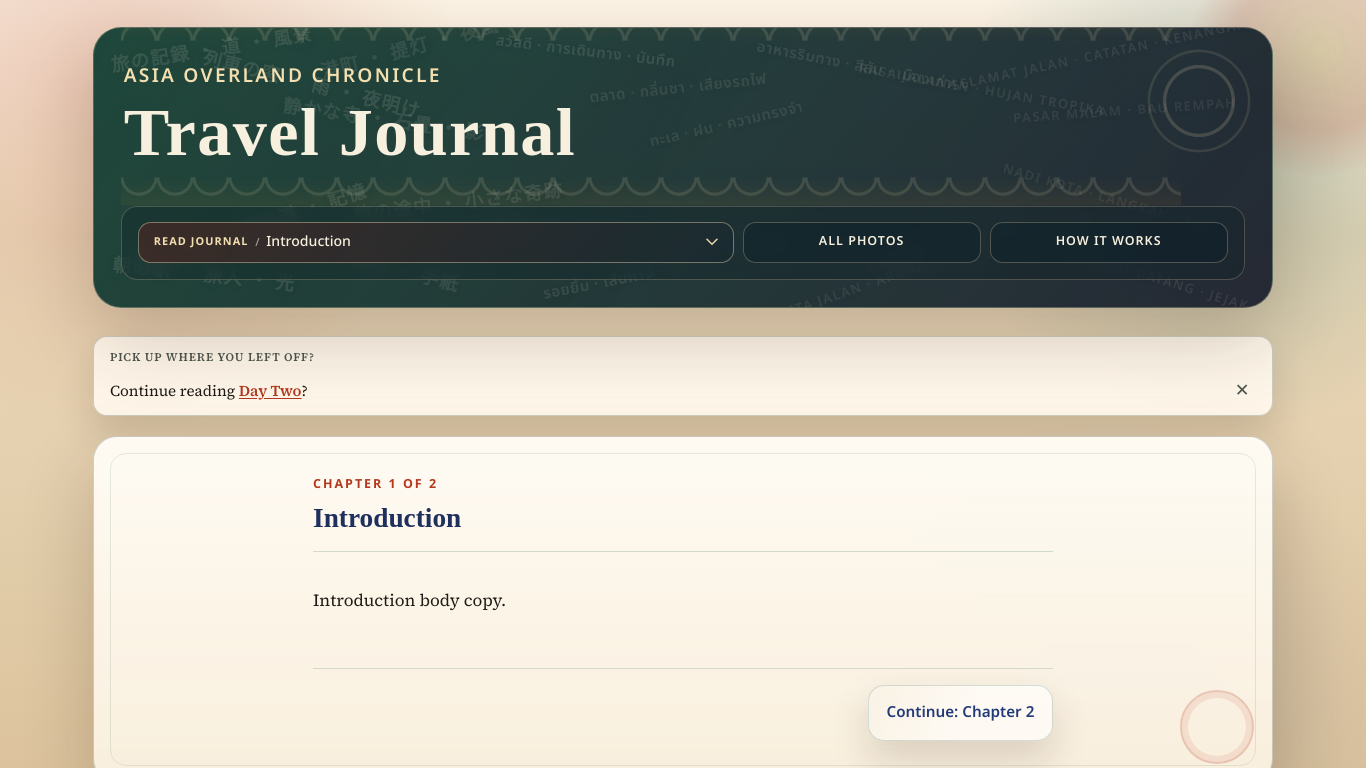
Test: App › clears bookmark banner when selecting a chapter from the dropdown
Check: the text "Pick up where you left off?" is shown, box x1=110 y1=349 x2=315 y2=365
Click the button "Read Journal / Introduction": (201, 241) x1=138 y1=222 x2=734 y2=263
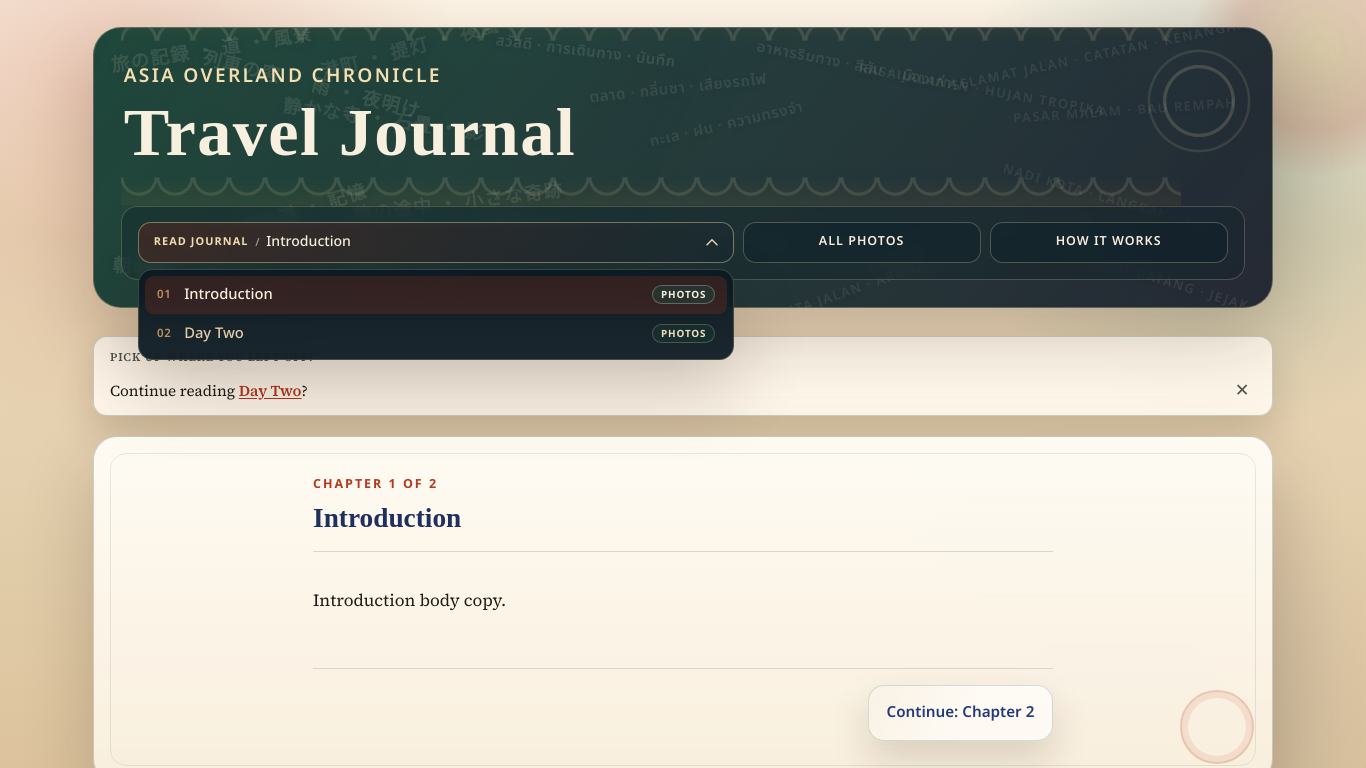
Click the option "02 Day Two Photos": (214, 334) x1=157 y1=322 x2=715 y2=345
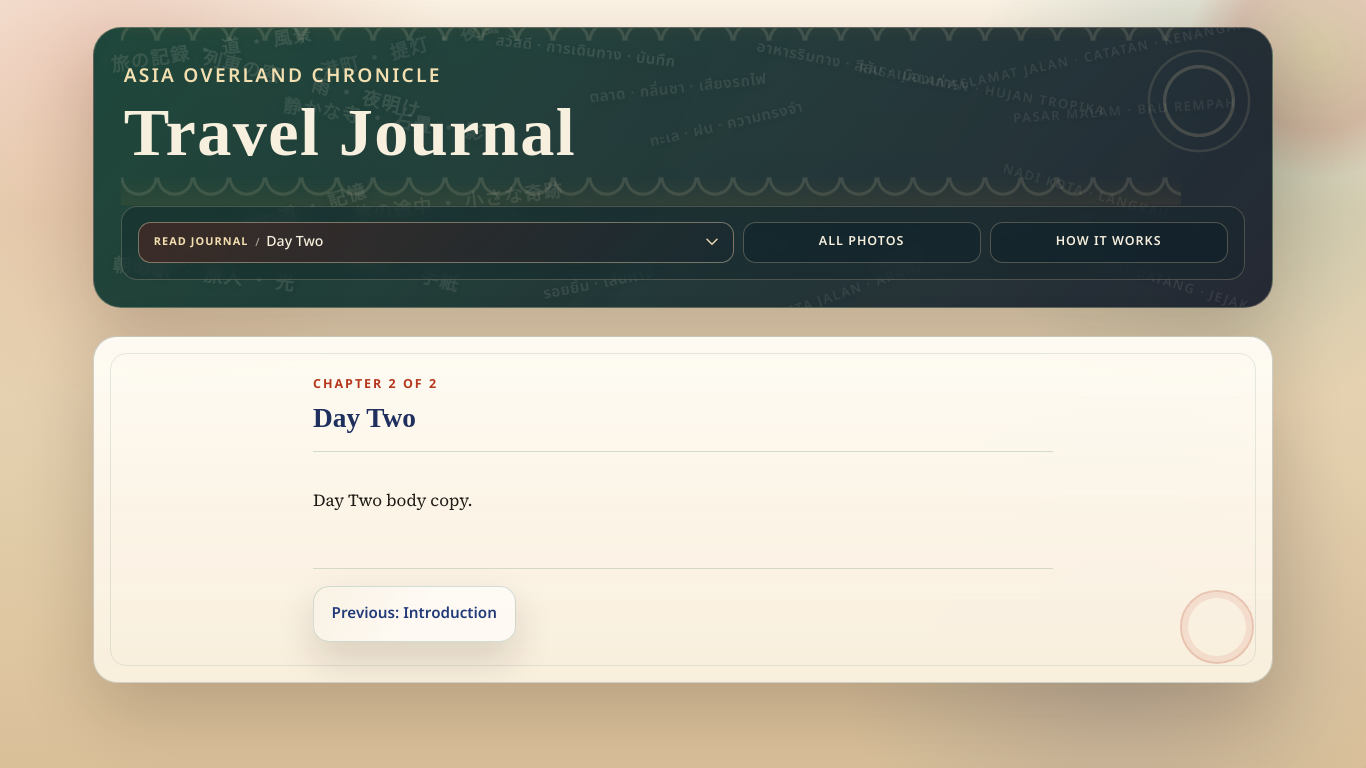
Check: the text "Pick up where you left off" is gone
